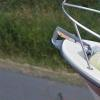Boat: (52, 7, 100, 96)
